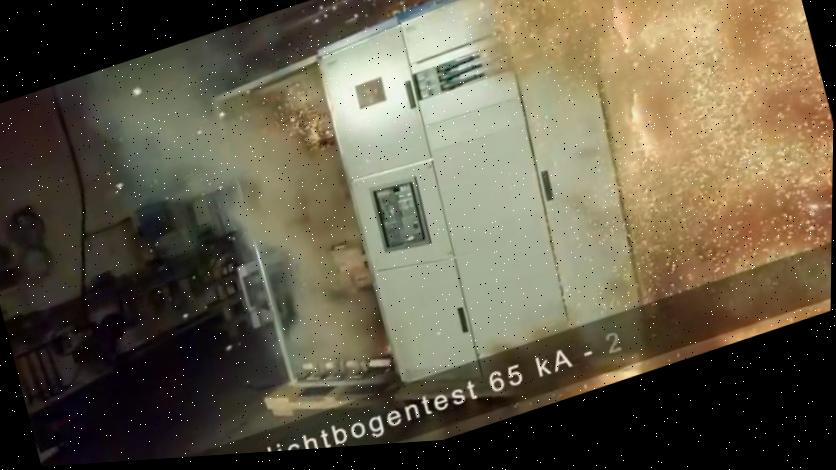fire: (550, 1, 818, 323)
